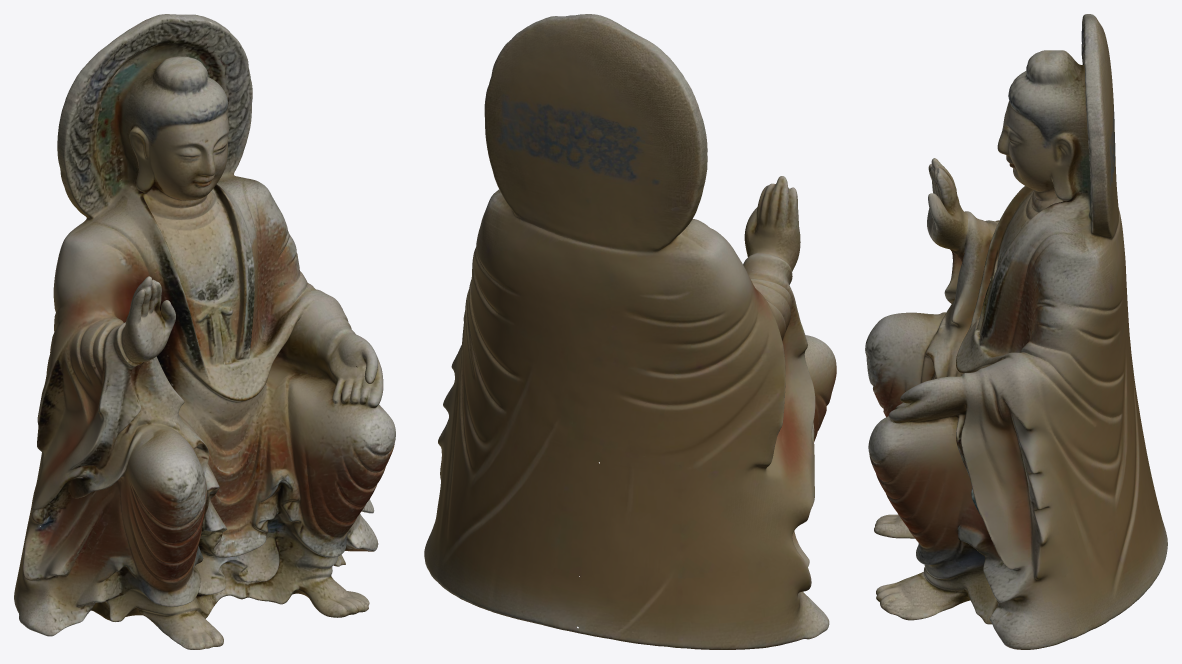
File: 古代佛像3d模型.glb
3 views of the same model, side by side, from view 1: azimuth 30°, elevation 25°; view 2: azimuth 150°, elevation 25°; view 3: azimuth 270°, elevation 25° (orthographic). The views are drawn at different scales.
Parts seen in each view (by area): view 1: tripo_node_14c90b20-a677-4ab6-8d00-82919fe585ca; view 2: tripo_node_14c90b20-a677-4ab6-8d00-82919fe585ca; view 3: tripo_node_14c90b20-a677-4ab6-8d00-82919fe585ca.
Part boxes in pixels (x1,y1,x2,y2): tripo_node_14c90b20-a677-4ab6-8d00-82919fe585ca: (14,14,395,649); tripo_node_14c90b20-a677-4ab6-8d00-82919fe585ca: (424,14,836,649); tripo_node_14c90b20-a677-4ab6-8d00-82919fe585ca: (865,14,1167,649).
Size of the model in its own units: 0.6713 by 0.998 by 0.5057.
Materials: 1 (1 with a texture image).
